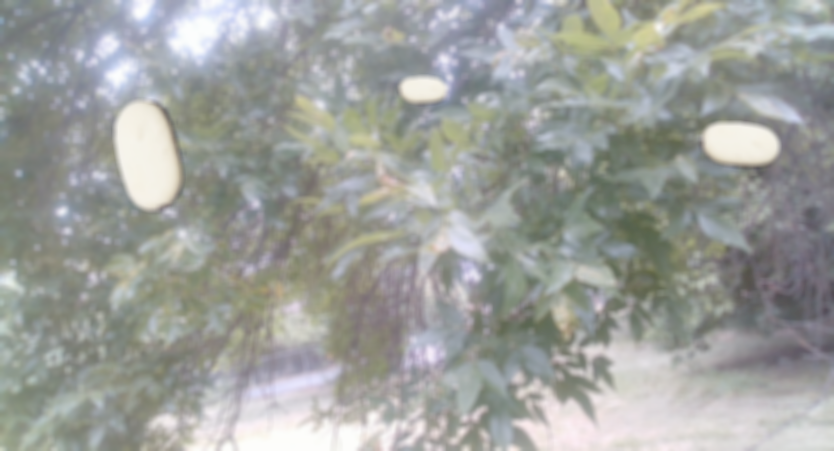test: (84, 87, 221, 225), (688, 97, 788, 197), (391, 61, 452, 122)
